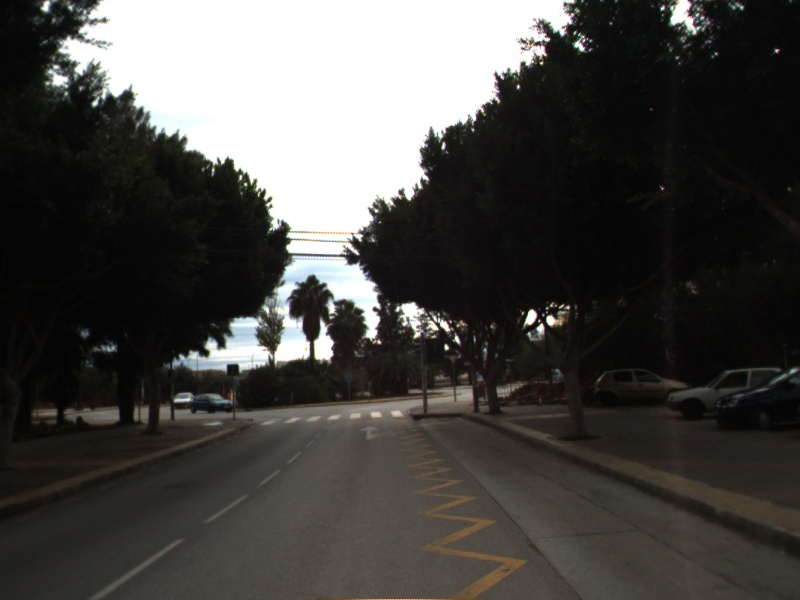STRAIGHT_RIGHT: (358, 424, 400, 441)
